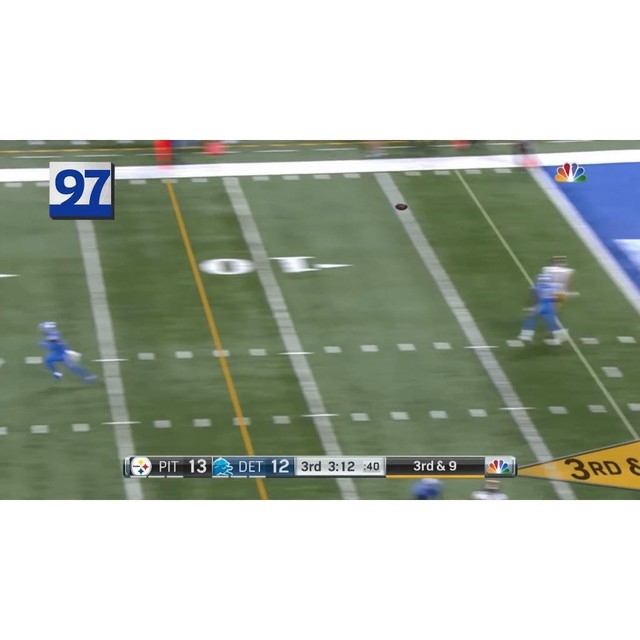american-football-player: (514, 269, 566, 347), (35, 320, 96, 383), (407, 477, 448, 499), (470, 478, 512, 499)
